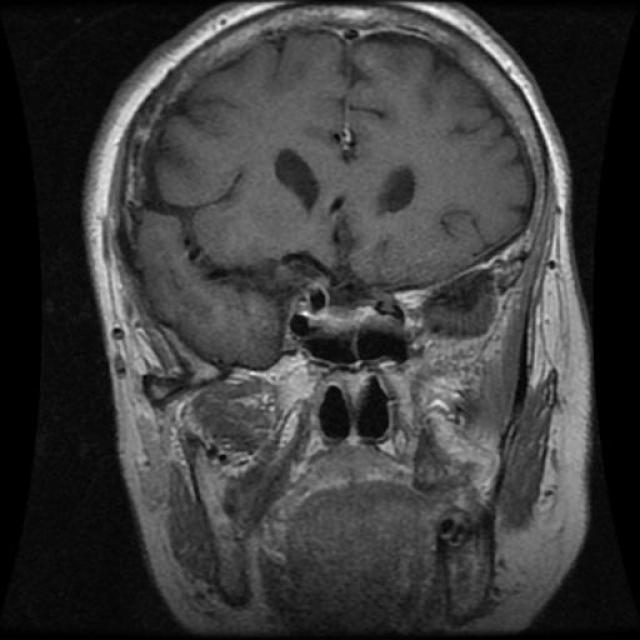pituitary: (276, 280, 434, 370)
